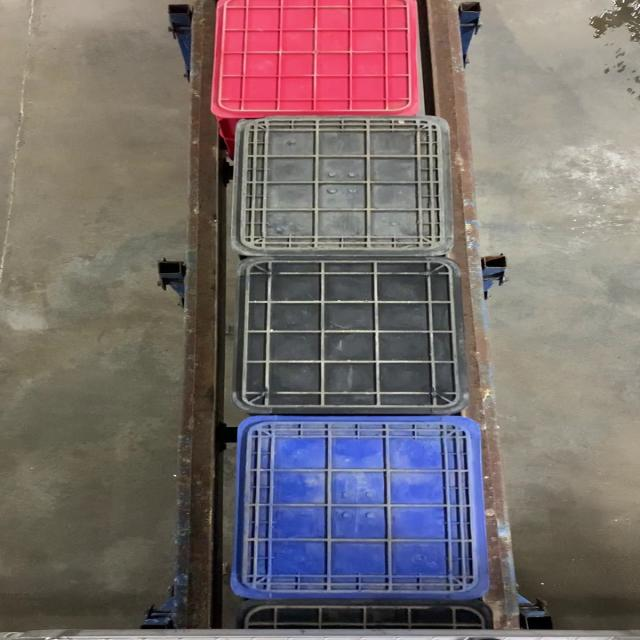Box: (235, 414, 490, 601), (231, 254, 475, 416)
Damaged_box: (235, 114, 454, 254)
